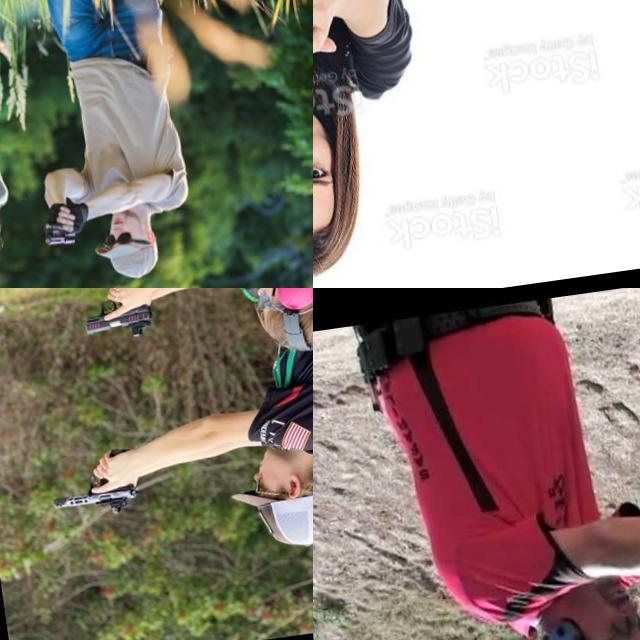handgun: (41, 439, 147, 527), (72, 288, 159, 348), (313, 13, 342, 113), (38, 210, 78, 250), (0, 220, 21, 262)
